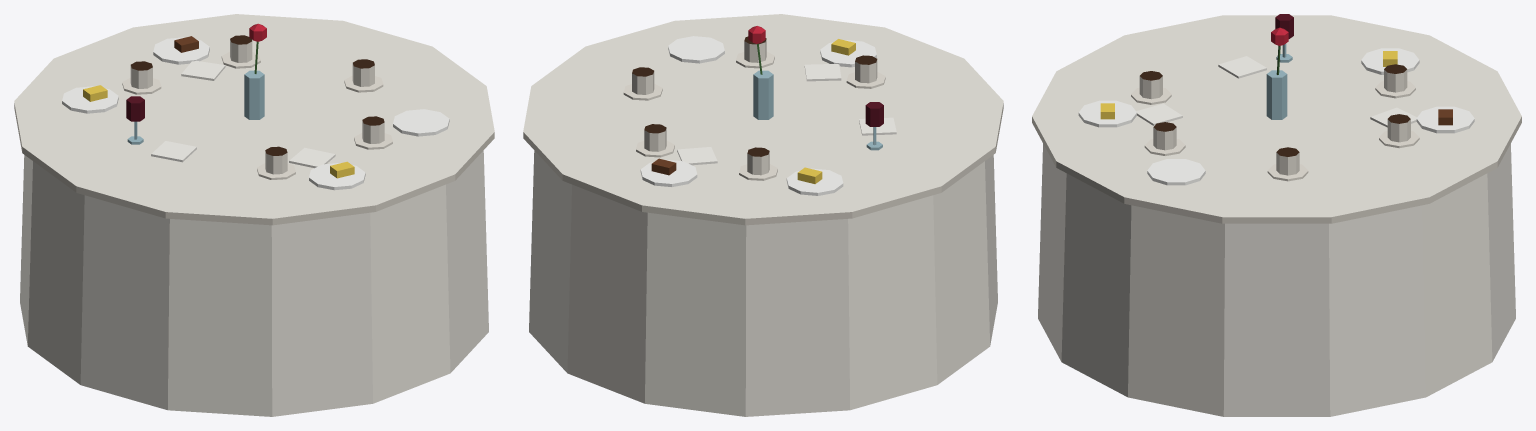
The model's file is Table4.obj.
The picture shows the model from 3 angles, left to right: view 1: azimuth 30°, elevation 25°; view 2: azimuth 150°, elevation 25°; view 3: azimuth 270°, elevation 25°; orthographic projection.
Parts seen in each view (by area): view 1: Table4; view 2: Table4; view 3: Table4.
Part boxes in pixels (bbox=[...]): Table4: bbox=[14, 14, 494, 416]; Table4: bbox=[523, 14, 1003, 416]; Table4: bbox=[1032, 14, 1521, 416].
Bounding box in the file's own units: 1.64 × 1.11 × 1.68.
1 material, 1 textured.
